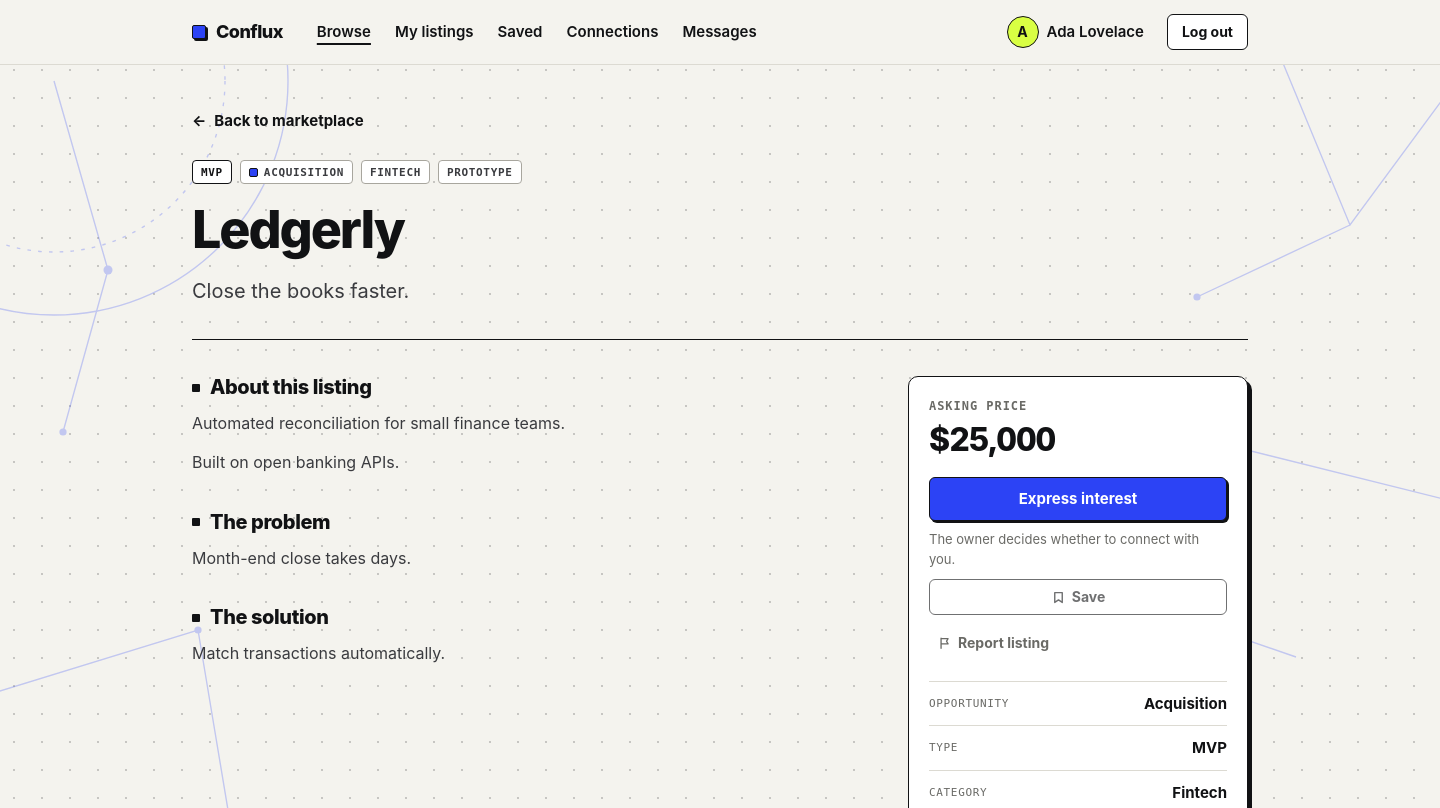
Scenario: Express interest failures › treats a 409 as final and withdraws the action
Click the button "Express interest" at (1078, 499), box [929,477,1227,521]
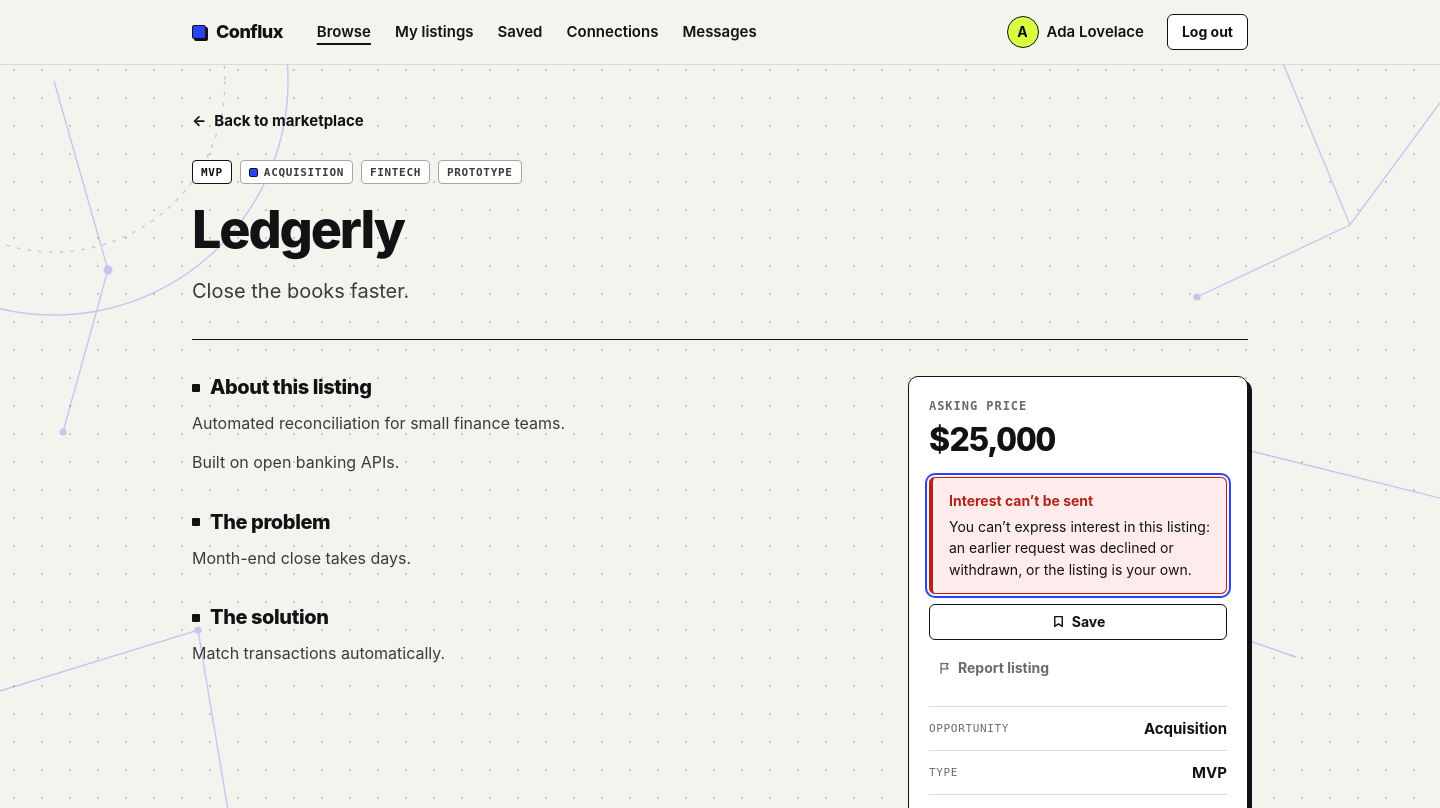
Now the message shows "Interest can’t be sent", box [949,492,1093,509]
Now the message shows "an earlier request was declined or withdrawn, or the listing is your own", box [949,518,1210,578]
